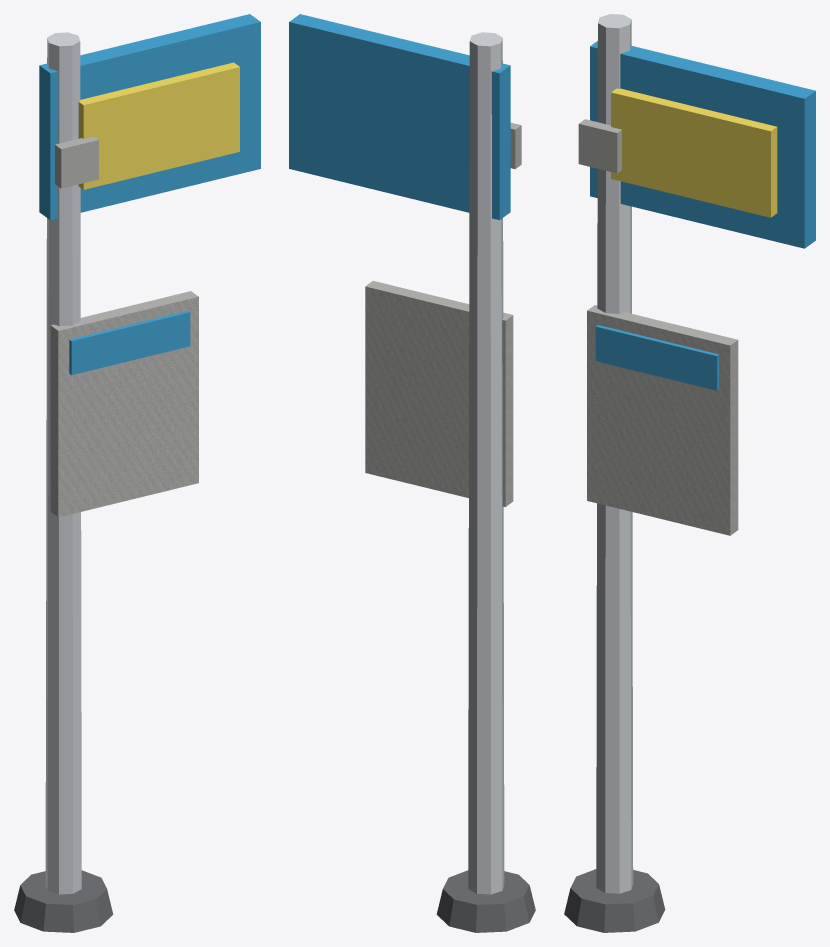
The model's file is bus-station-and-city-transit-bus-stop-pole-with-flag-3071e762.glb.
The picture shows the model from 3 angles, left to right: view 1: azimuth 30°, elevation 25°; view 2: azimuth 150°, elevation 25°; view 3: azimuth 330°, elevation 25°; orthographic projection. The views are drawn at different scales.
Visible parts, largest first — view 1: bus-stop-pole-with-flag-concrete, bus-stop-pole-with-flag-steel, bus-stop-pole-with-flag-azure, bus-stop-pole-with-flag-canary, bus-stop-pole-with-flag-charcoal; view 2: bus-stop-pole-with-flag-azure, bus-stop-pole-with-flag-steel, bus-stop-pole-with-flag-concrete, bus-stop-pole-with-flag-charcoal; view 3: bus-stop-pole-with-flag-concrete, bus-stop-pole-with-flag-azure, bus-stop-pole-with-flag-steel, bus-stop-pole-with-flag-canary, bus-stop-pole-with-flag-charcoal.
Part boxes in pixels (x1,y1,x2,y2): bus-stop-pole-with-flag-concrete: (50, 136, 198, 517); bus-stop-pole-with-flag-steel: (45, 32, 81, 894); bus-stop-pole-with-flag-azure: (39, 14, 260, 375); bus-stop-pole-with-flag-canary: (78, 62, 239, 189); bus-stop-pole-with-flag-charcoal: (14, 870, 113, 932); bus-stop-pole-with-flag-azure: (289, 14, 510, 220); bus-stop-pole-with-flag-steel: (468, 32, 504, 894); bus-stop-pole-with-flag-concrete: (365, 122, 521, 506); bus-stop-pole-with-flag-charcoal: (436, 870, 535, 932); bus-stop-pole-with-flag-concrete: (578, 119, 738, 535); bus-stop-pole-with-flag-azure: (590, 41, 815, 390); bus-stop-pole-with-flag-steel: (596, 14, 633, 893); bus-stop-pole-with-flag-canary: (611, 88, 777, 217); bus-stop-pole-with-flag-charcoal: (564, 869, 665, 932).
Bounding box in the file's own units: 0.87 × 3.09 × 0.3043.
5 materials, 1 textured.
